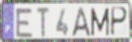4: (55, 7, 70, 37)
A: (71, 6, 92, 38)
E: (15, 7, 34, 39)
M: (90, 7, 110, 38)
P: (110, 6, 129, 38)
T: (36, 7, 51, 39)
